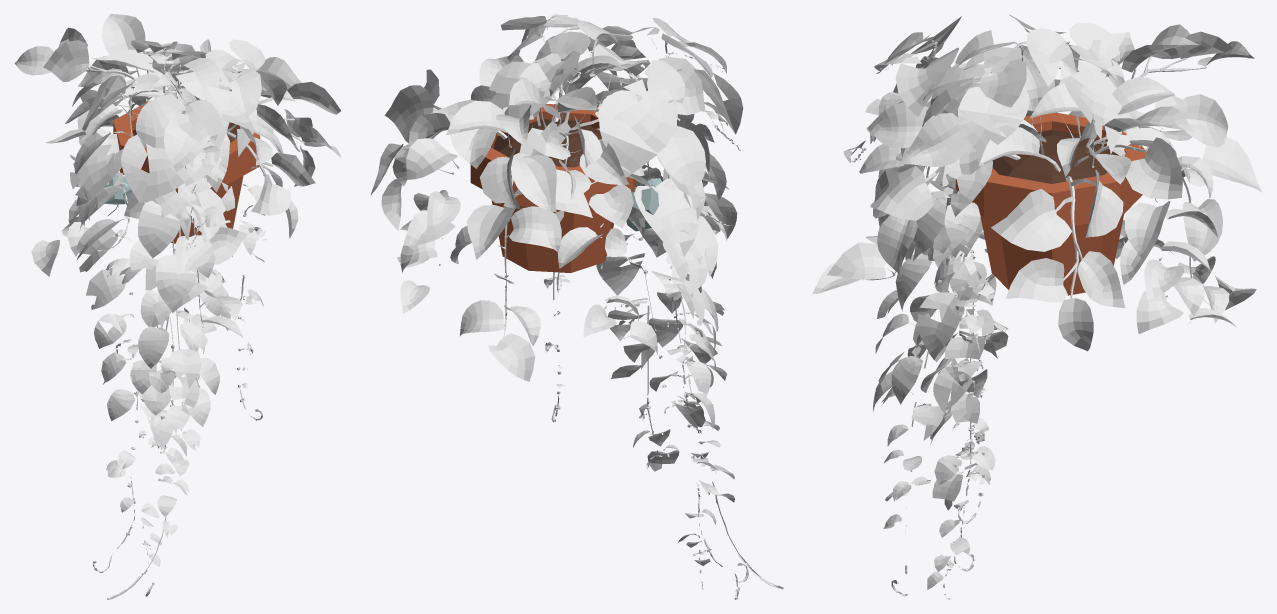
3 views of the same model, side by side, from view 1: azimuth 30°, elevation 25°; view 2: azimuth 150°, elevation 25°; view 3: azimuth 270°, elevation 25° (orthographic). The views are drawn at different scales.
Parts seen in each view (by area): view 1: Retopo_Object_4, Retopo_POTHOS.001, lowpoly.taobao.com.021; view 2: Retopo_POTHOS.001, Retopo_Object_4, lowpoly.taobao.com.021, lowpoly.taobao.com.023; view 3: Retopo_POTHOS.001, Retopo_Object_4, lowpoly.taobao.com.021.
Boxes of the visible parts, x1,y1,x2,y2 form: Retopo_Object_4: [70, 39, 286, 599]; Retopo_POTHOS.001: [14, 14, 341, 338]; lowpoly.taobao.com.021: [113, 102, 260, 243]; Retopo_POTHOS.001: [370, 44, 729, 381]; Retopo_Object_4: [489, 14, 783, 599]; lowpoly.taobao.com.021: [470, 103, 636, 272]; lowpoly.taobao.com.023: [626, 188, 659, 231]; Retopo_POTHOS.001: [812, 24, 1262, 351]; Retopo_Object_4: [843, 14, 1143, 599]; lowpoly.taobao.com.021: [955, 112, 1146, 295].
Bounding box in the file's own units: 308 × 515 × 342.
